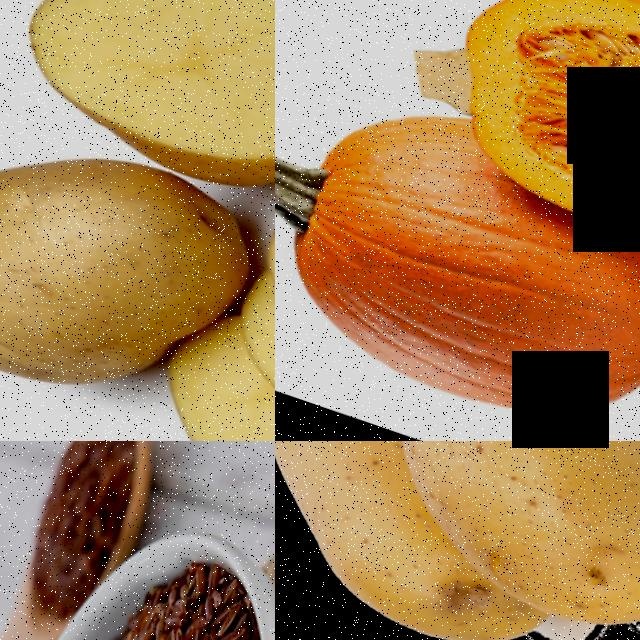potato: (0, 88, 275, 441), (0, 0, 275, 229), (334, 441, 640, 640)
pumpkin: (275, 117, 640, 441), (409, 0, 640, 272)
red rice: (0, 546, 275, 640)
